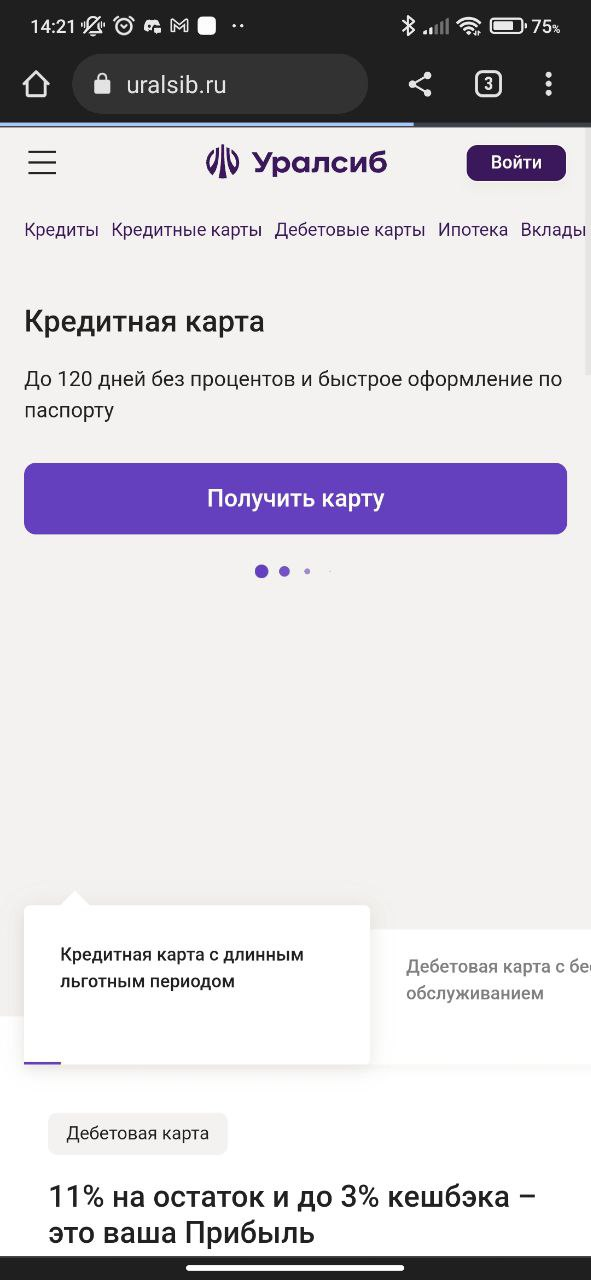burger_menu: (22, 145, 60, 179)
